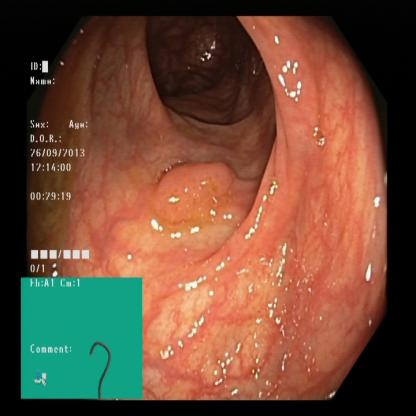Labels: (30, 56, 98, 276), (22, 277, 146, 397)
Polyps: (158, 158, 239, 226)
